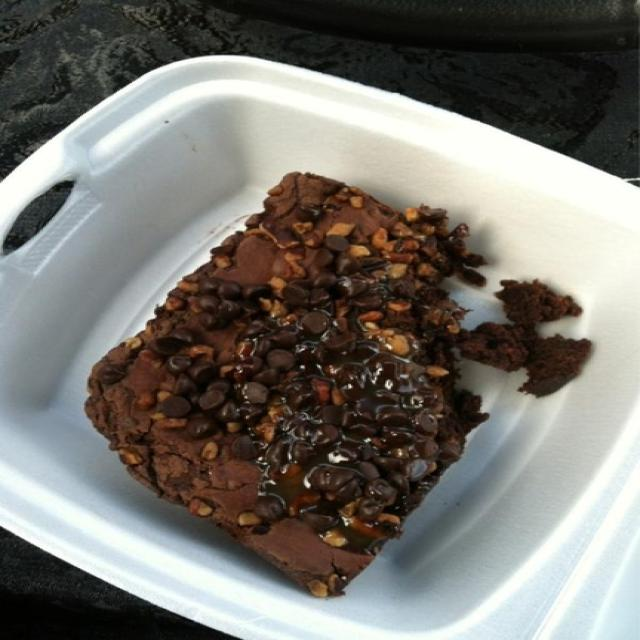蛋糕甜品: (43, 77, 618, 626)
